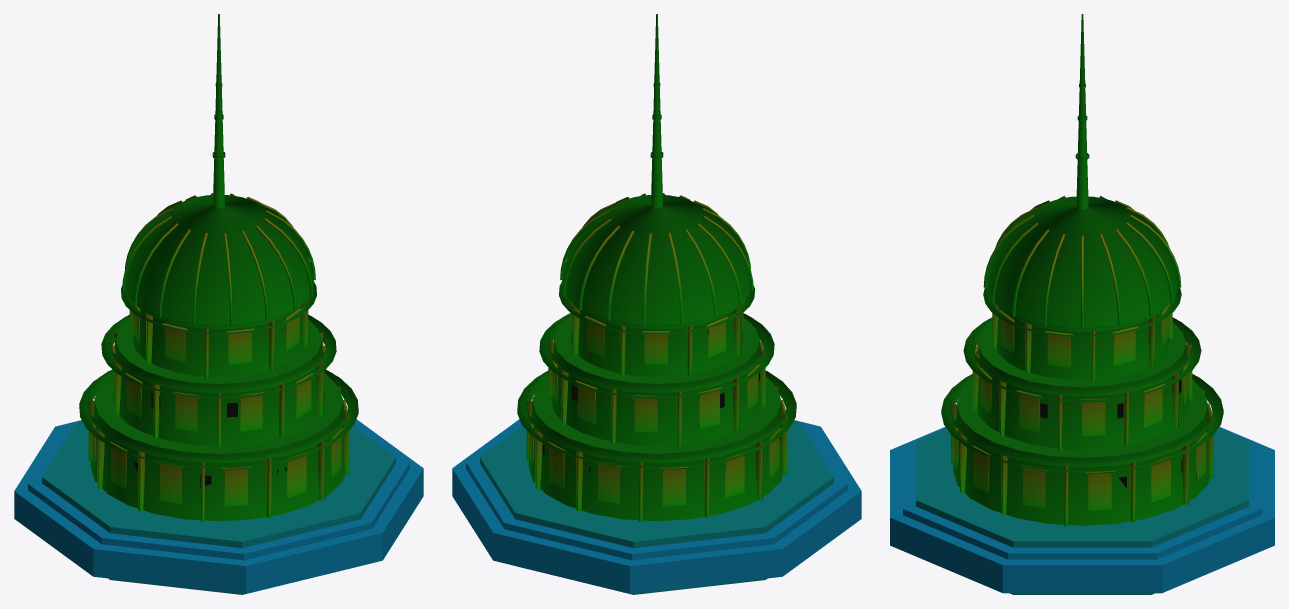
Rendered from bowl_dome_lit.glb.
The picture shows the model from 3 angles, left to right: view 1: azimuth 30°, elevation 25°; view 2: azimuth 150°, elevation 25°; view 3: azimuth 270°, elevation 25°; orthographic projection.
Visible parts, largest first — view 1: bowl_dome_lit; view 2: bowl_dome_lit; view 3: bowl_dome_lit.
Part boxes in pixels (left/top/right/bottom): bowl_dome_lit: left=14, top=14, right=423, bottom=594; bowl_dome_lit: left=452, top=14, right=861, bottom=594; bowl_dome_lit: left=890, top=14, right=1274, bottom=594.
Size of what is drawn, in the model's own units: 13.67 by 20 by 13.67.
